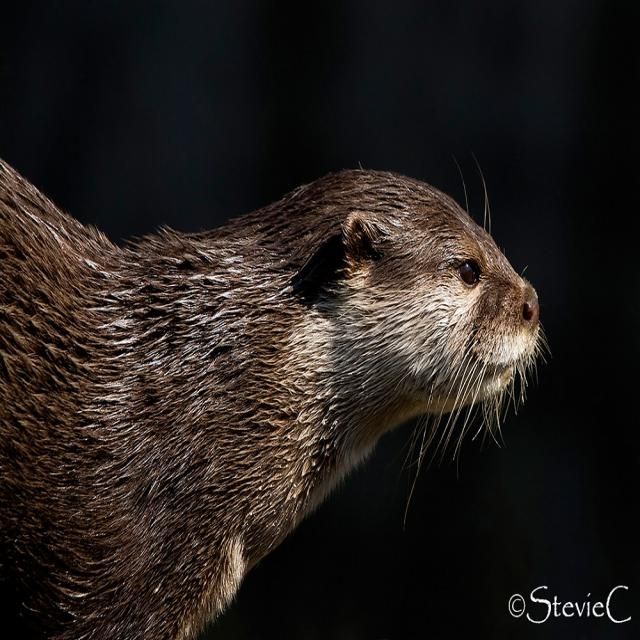otter: (1, 172, 543, 561)
